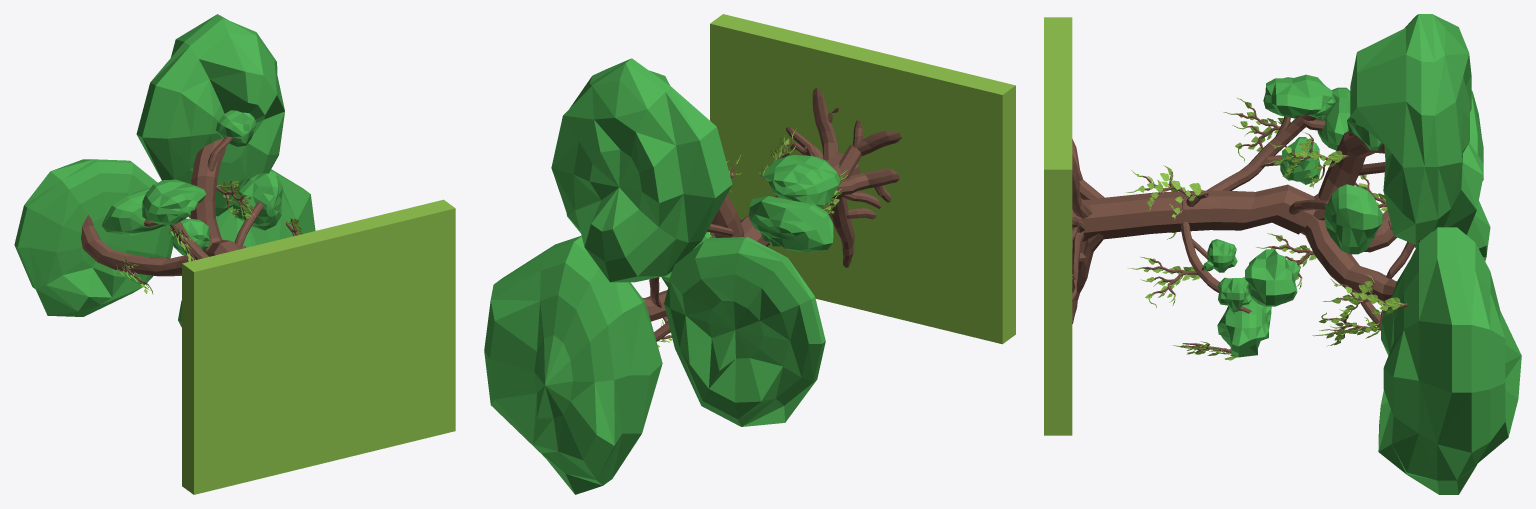
Rendered from Vine Covered Tree.fbx.
The picture shows the model from 3 angles, left to right: view 1: azimuth 30°, elevation 25°; view 2: azimuth 150°, elevation 25°; view 3: azimuth 270°, elevation 25°; orthographic projection. The views are drawn at different scales.
Parts seen in each view (by area): view 1: imagetostl_mesh0; view 2: imagetostl_mesh0; view 3: imagetostl_mesh0.
Part boxes in pixels (x1,y1,x2,y2): imagetostl_mesh0: (14, 14, 455, 494); imagetostl_mesh0: (484, 14, 1015, 494); imagetostl_mesh0: (1044, 14, 1521, 494).
Size of the model in its own units: 116 by 144 by 135.
